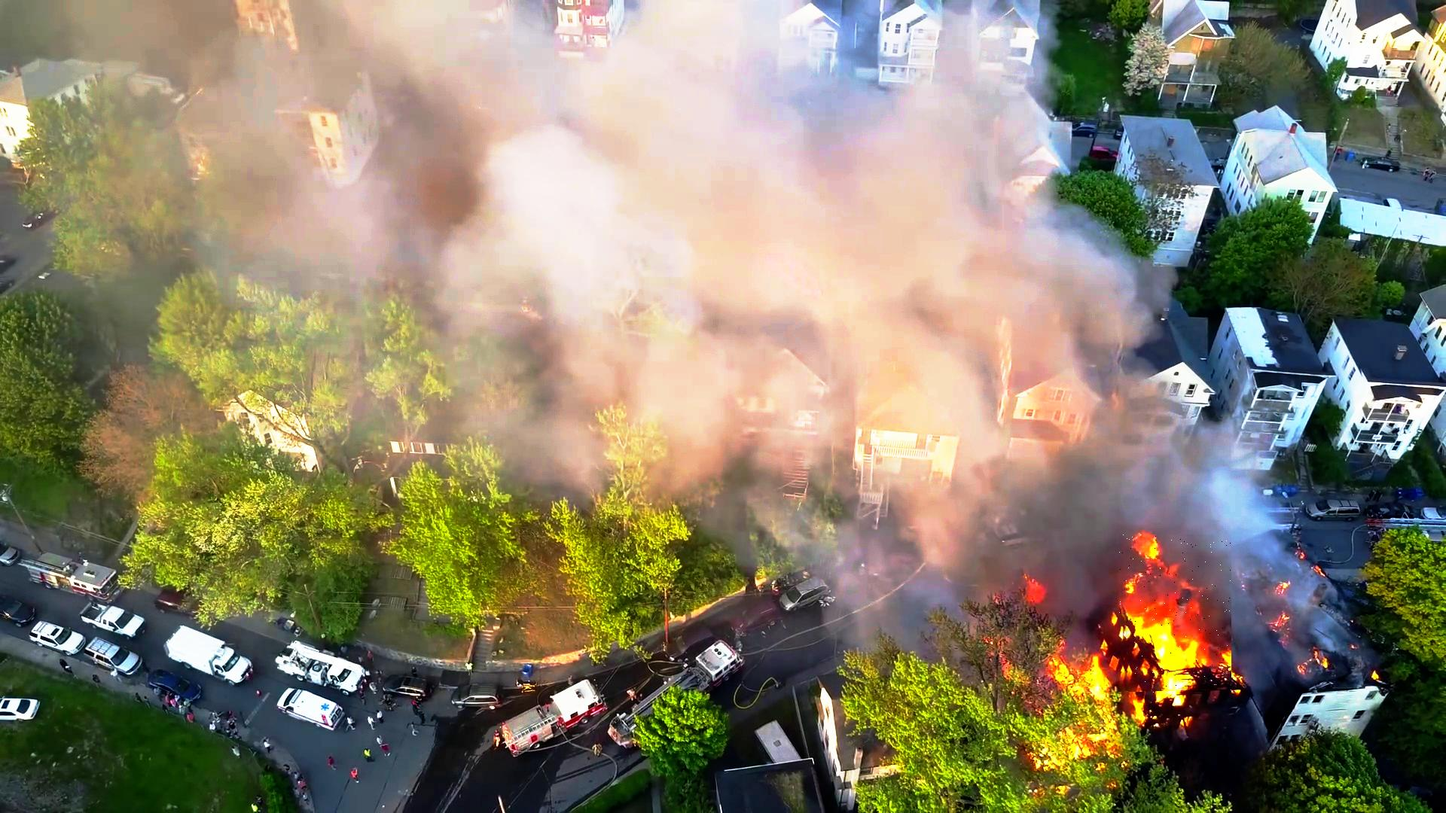fire: (1119, 535, 1231, 694)
